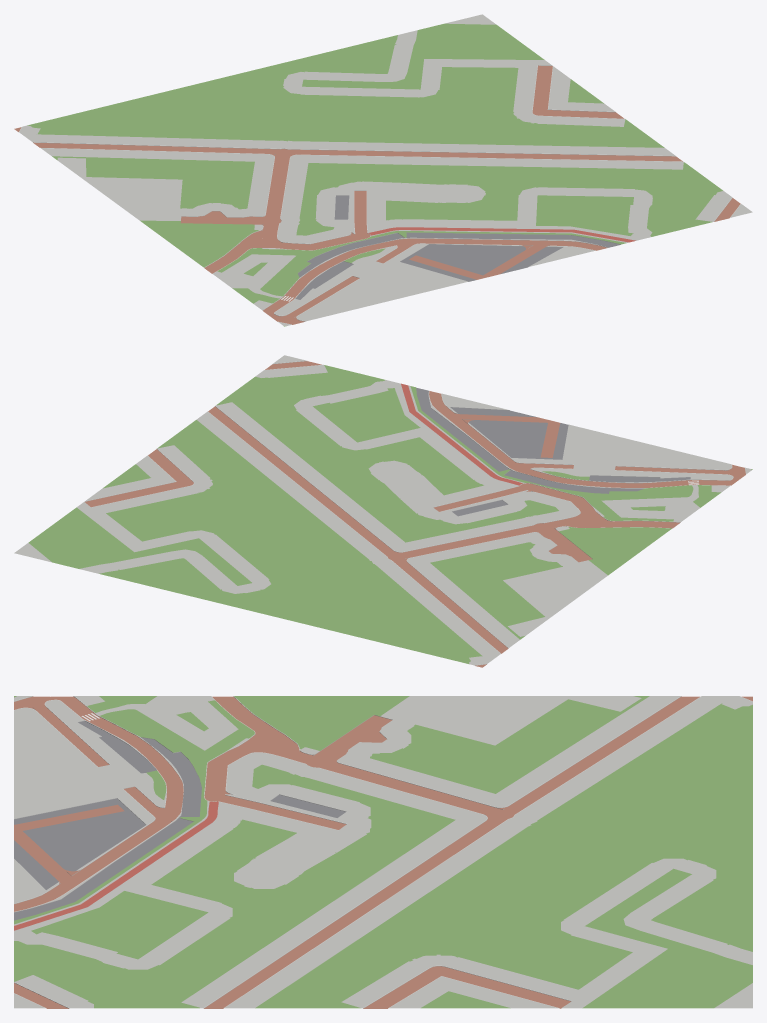
Rendered from ground_5_10.glb.
3 renders of one model, top to bottom at view 1: azimuth 30°, elevation 25°; view 2: azimuth 150°, elevation 25°; view 3: azimuth 270°, elevation 25°, orthographic. The views are drawn at different scales.
Visible parts, largest first — view 1: ground_5_10; view 2: ground_5_10; view 3: ground_5_10.
Boxes of the visible parts, x1=… form: ground_5_10: x1=14, y1=14, x2=752, y2=326; ground_5_10: x1=14, y1=355, x2=752, y2=667; ground_5_10: x1=14, y1=696, x2=752, y2=1008.
Bounding box in the file's own units: 200 × 0.12 × 200.
